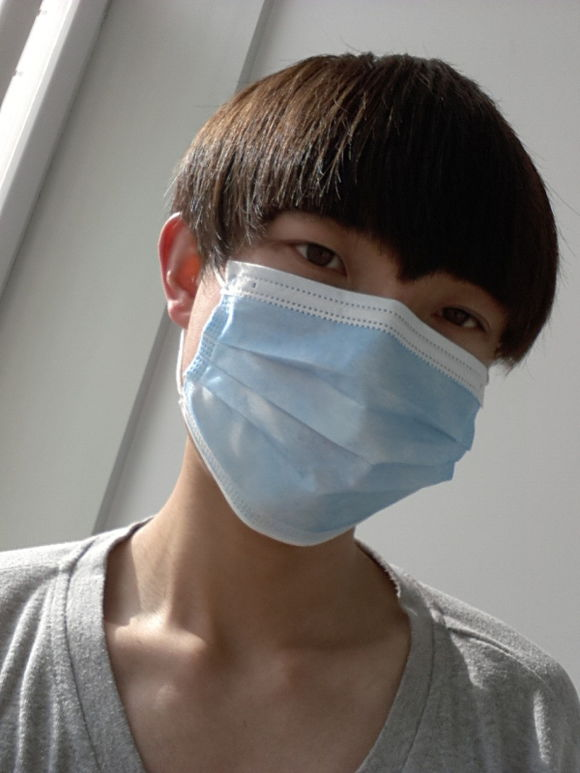face_mask: (178, 198, 487, 547)
